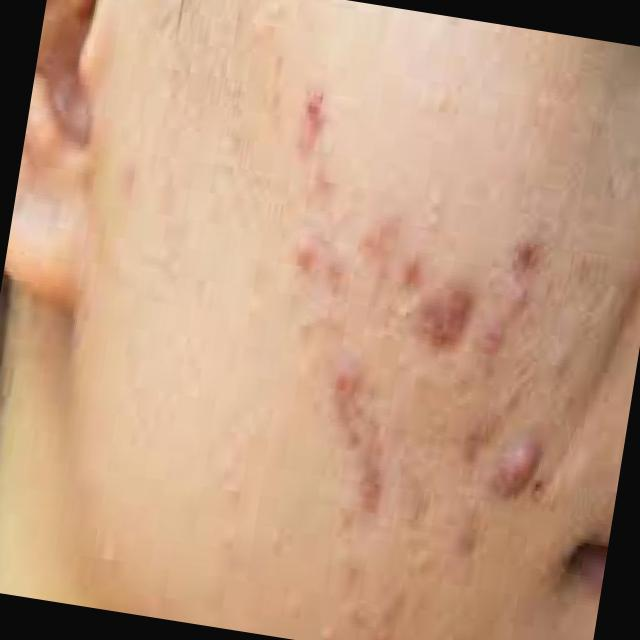nodule: (481, 426, 544, 506)
